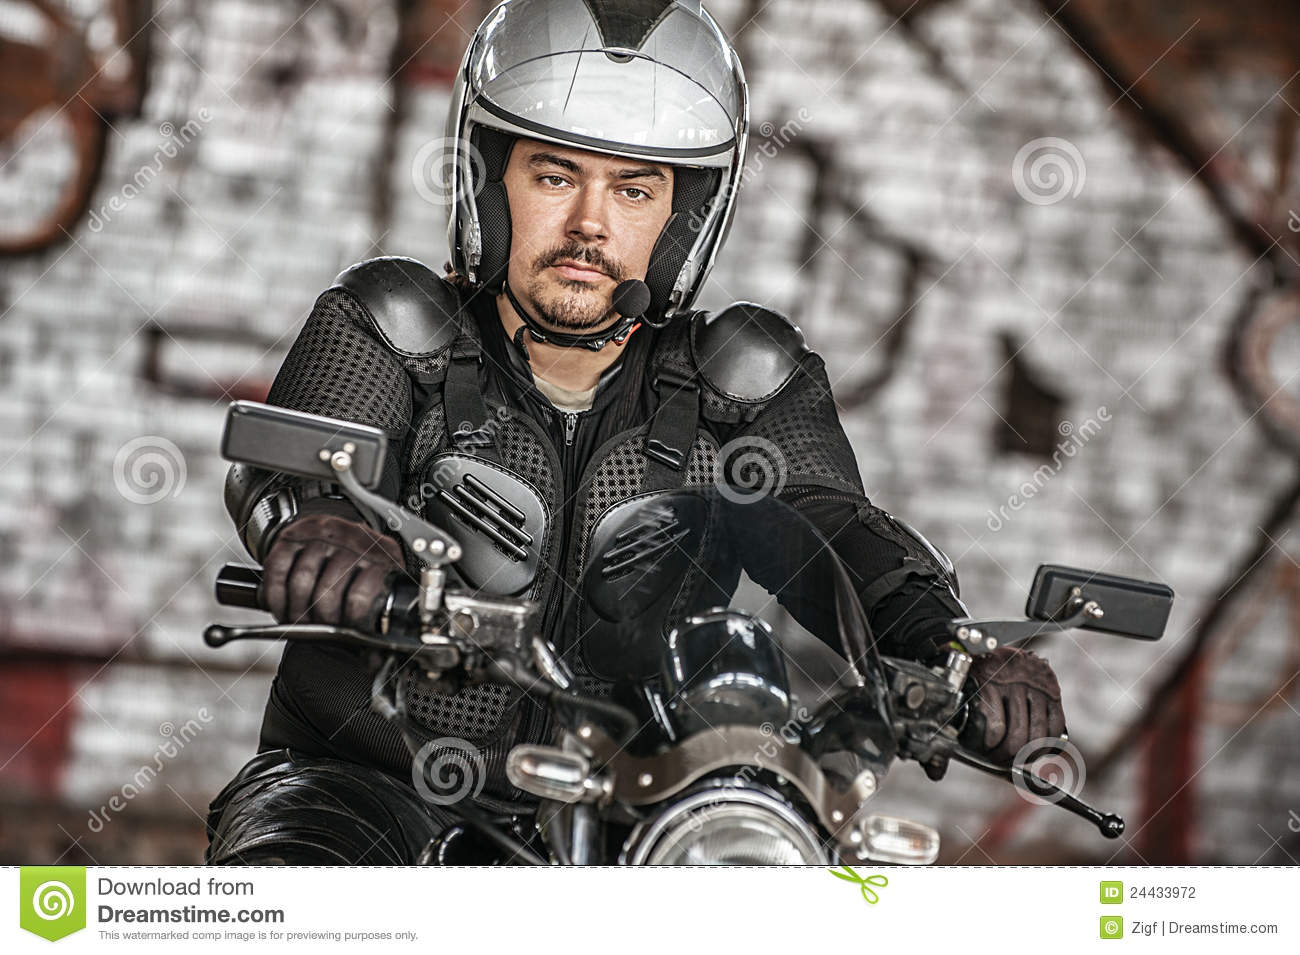helmet: (460, 1, 761, 312)
